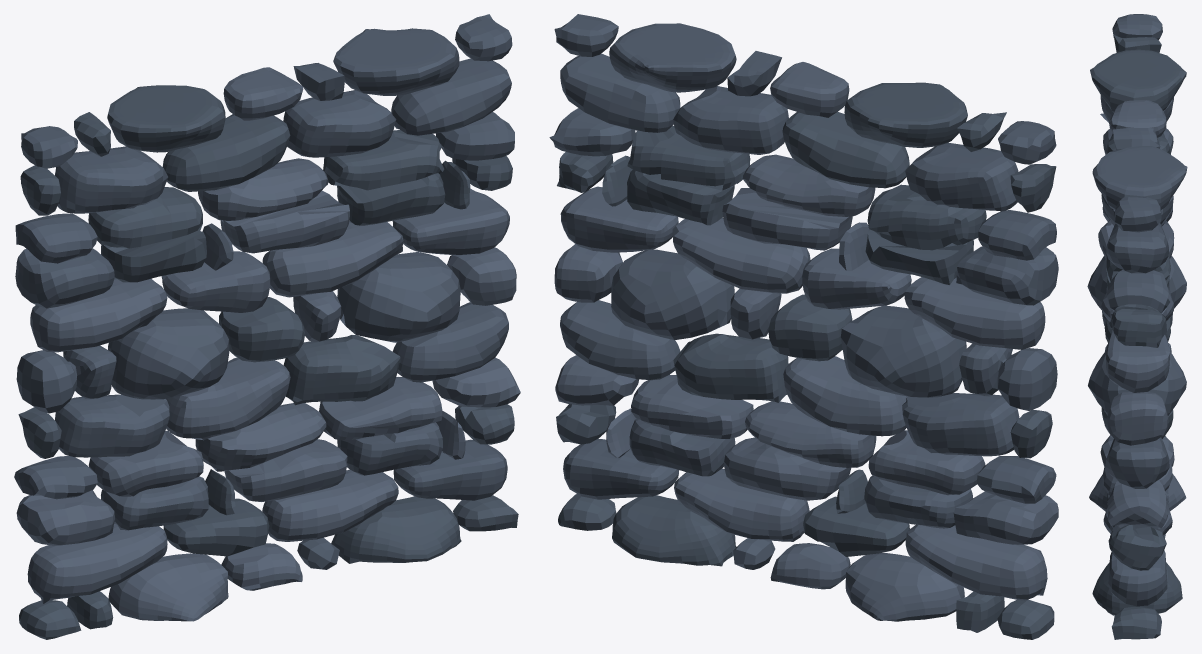
Rendered from Stone.fbx.
The picture shows the model from 3 angles, left to right: view 1: azimuth 30°, elevation 25°; view 2: azimuth 150°, elevation 25°; view 3: azimuth 270°, elevation 25°; orthographic projection. The views are drawn at different scales.
Visible parts, largest first — view 1: Stones; view 2: Stones; view 3: Stones.
Part boxes in pixels (x1,y1,x2,y2): Stones: [14, 14, 520, 639]; Stones: [549, 14, 1058, 639]; Stones: [1087, 14, 1187, 639].
Bounding box in the file's own units: 3 × 2.98 × 0.6314.
